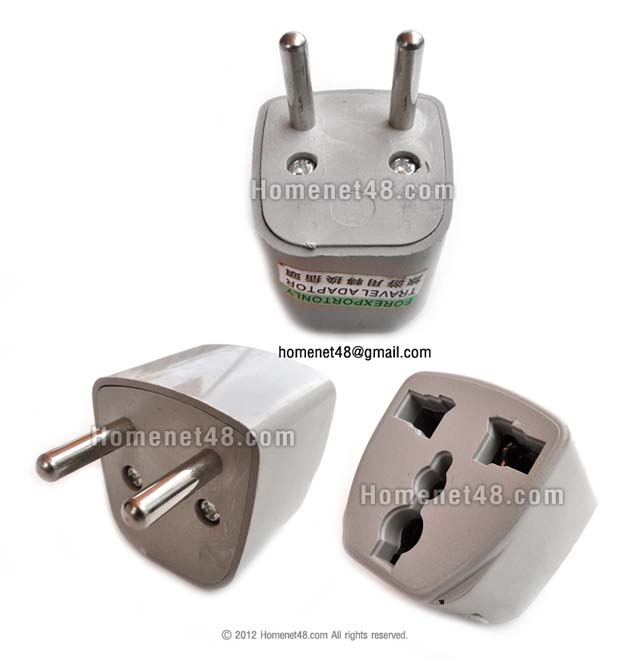Three_eye_plug: (25, 326, 344, 605), (333, 363, 603, 636), (239, 22, 462, 343)
